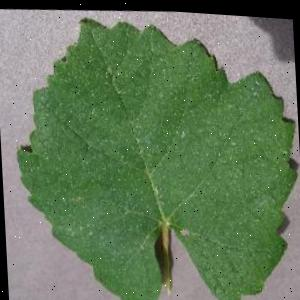Folha: (7, 0, 300, 300)
